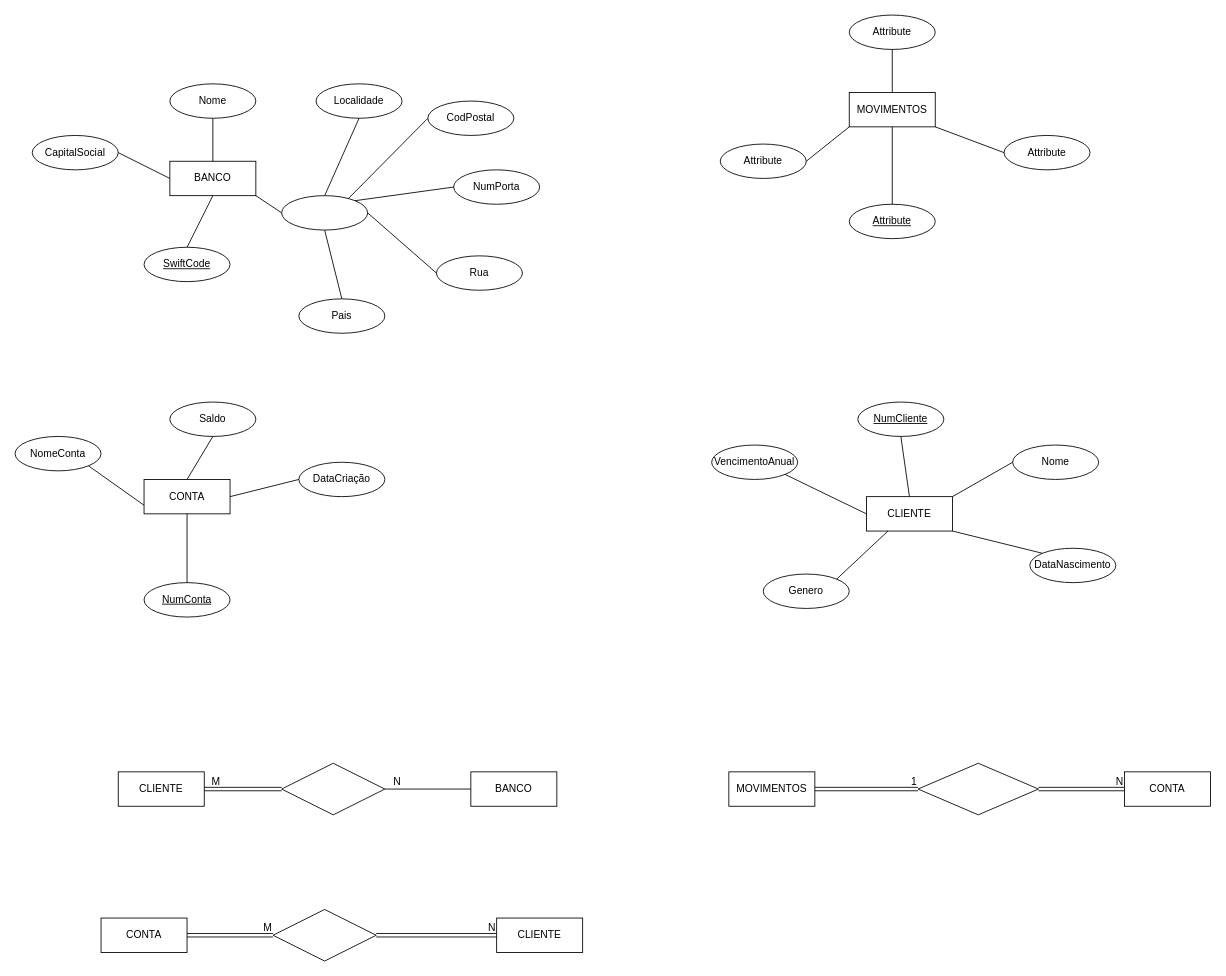
Image size: 1226x976. Some labels were removed from this diagram. The shapes that lost their labels are listed below. From the top down, each one's centre as x and y in pixels, then its label:
At (324,212): "Morada".
At (333,788): "PERTENCE_A".
At (977,788): "MOVIMENTOS_DE".
At (324,935): "CONTA_DE".
